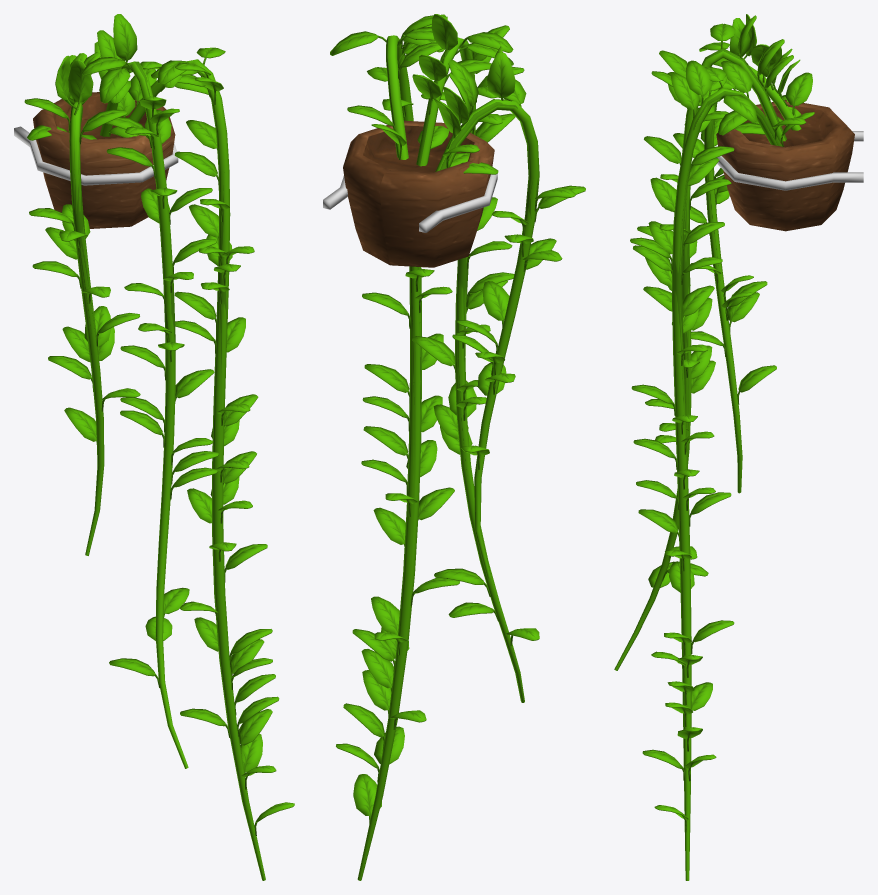
File: planta_colgante.fbx
The picture shows the model from 3 angles, left to right: view 1: azimuth 30°, elevation 25°; view 2: azimuth 150°, elevation 25°; view 3: azimuth 270°, elevation 25°; orthographic projection. The views are drawn at different scales.
Visible parts, largest first — view 1: PlantaColgante.001, PlantaColgante, PlantaColgante.002; view 2: PlantaColgante.001, PlantaColgante, PlantaColgante.002; view 3: PlantaColgante.001, PlantaColgante, PlantaColgante.002.
Part boxes in pixels (x1,y1,x2,y2): PlantaColgante.001: (24,14,294,880); PlantaColgante: (33,92,175,228); PlantaColgante.002: (14,126,178,185); PlantaColgante.001: (330,14,585,880); PlantaColgante: (343,120,494,267); PlantaColgante.002: (323,174,497,232); PlantaColgante.001: (614,14,814,880); PlantaColgante: (716,99,854,231); PlantaColgante.002: (716,131,863,190).
Size of the model in its own units: 49 by 173 by 48.13.
